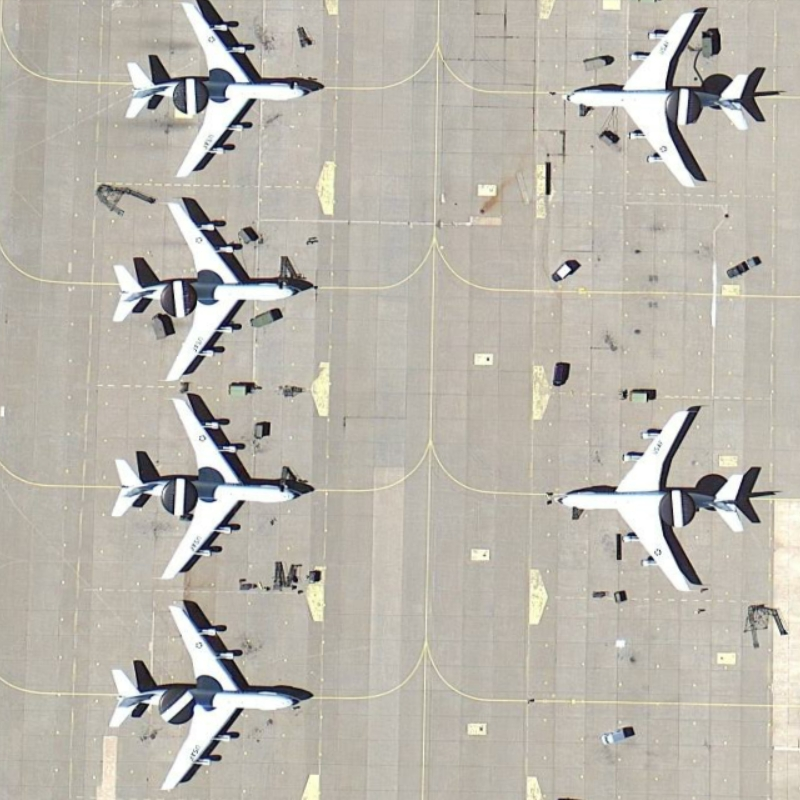A7: (544, 399, 761, 605), (554, 4, 775, 195), (104, 191, 315, 388), (104, 596, 314, 793), (103, 389, 308, 588), (117, 1, 320, 192)
